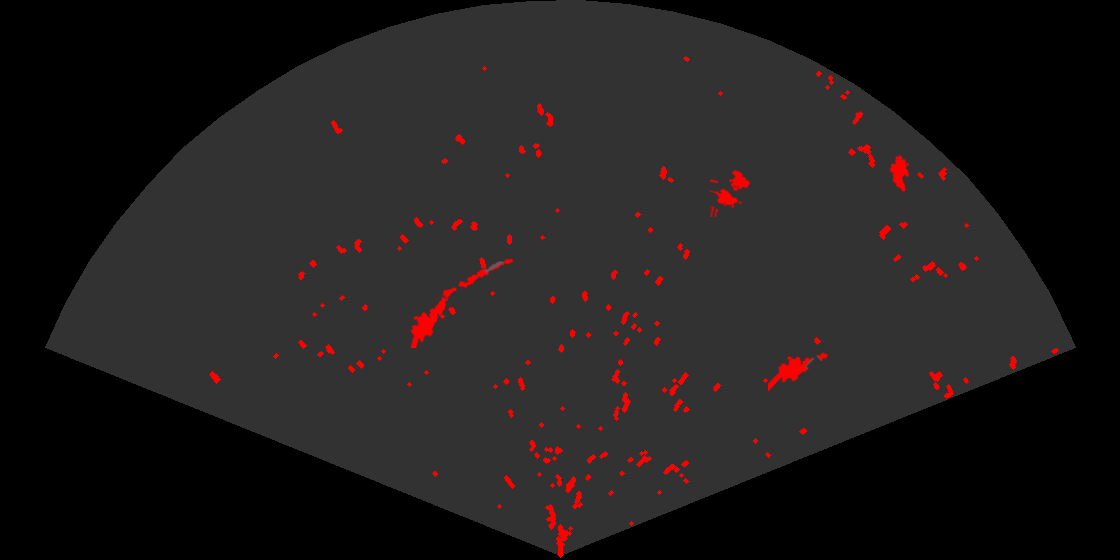AUV: (888, 153, 911, 194)
cage: (710, 168, 752, 217)
chain: (434, 257, 515, 302)
frogman: (768, 351, 830, 393), (409, 293, 450, 348)
